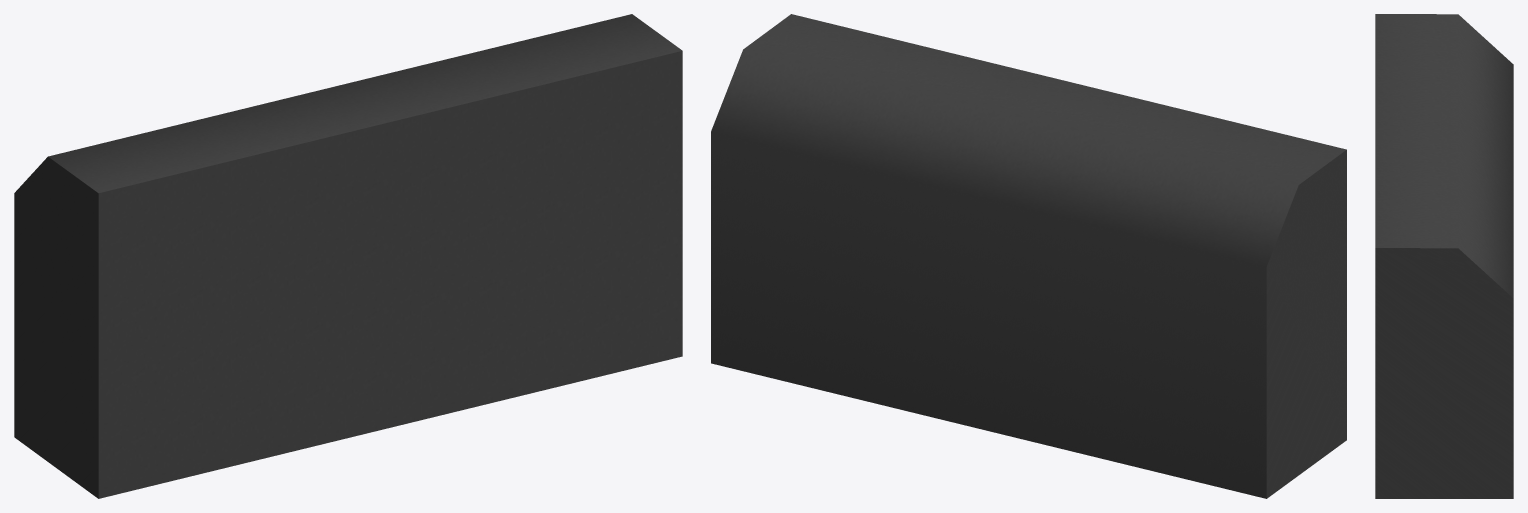
File: Ceiling_Side.fbx
The picture shows the model from 3 angles, left to right: view 1: azimuth 30°, elevation 25°; view 2: azimuth 150°, elevation 25°; view 3: azimuth 270°, elevation 25°; orthographic projection. The views are drawn at different scales.
Parts seen in each view (by area): view 1: Corridor_Ceiling_Side; view 2: Corridor_Ceiling_Side; view 3: Corridor_Ceiling_Side.
Part boxes in pixels (x1,y1,x2,y2): Corridor_Ceiling_Side: [14, 14, 682, 498]; Corridor_Ceiling_Side: [711, 14, 1346, 498]; Corridor_Ceiling_Side: [1375, 14, 1513, 498].
Size of the model in its own units: 200 by 100 by 50.
2 materials, 2 textured.
